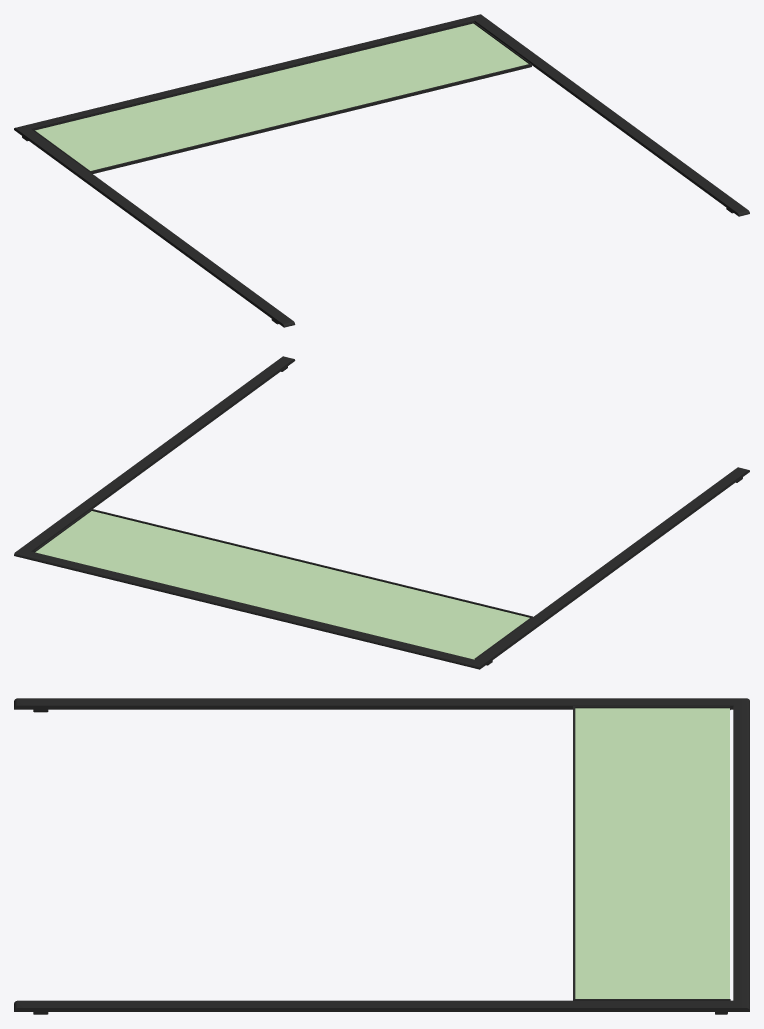
File: qudrix-webgl_q2_roof_sunshade-dazzoni.glb
The picture shows the model from 3 angles, top to bottom: view 1: azimuth 30°, elevation 25°; view 2: azimuth 150°, elevation 25°; view 3: azimuth 270°, elevation 25°; orthographic projection. The views are drawn at different scales.
Visible parts, largest first — view 1: roof_sunshade-dazzoni-shade, roof_sunshade-dazzoni-frame; view 2: roof_sunshade-dazzoni-shade, roof_sunshade-dazzoni-frame; view 3: roof_sunshade-dazzoni-shade, roof_sunshade-dazzoni-frame.
Part boxes in pixels (x1,y1,x2,y2): roof_sunshade-dazzoni-shade: [33, 22, 531, 173]; roof_sunshade-dazzoni-frame: [14, 14, 749, 327]; roof_sunshade-dazzoni-shade: [34, 509, 532, 659]; roof_sunshade-dazzoni-frame: [14, 356, 749, 669]; roof_sunshade-dazzoni-shade: [573, 706, 730, 1000]; roof_sunshade-dazzoni-frame: [14, 698, 749, 1014].
Size of the model in its own units: 3.63 by 0.0384 by 3.64.
